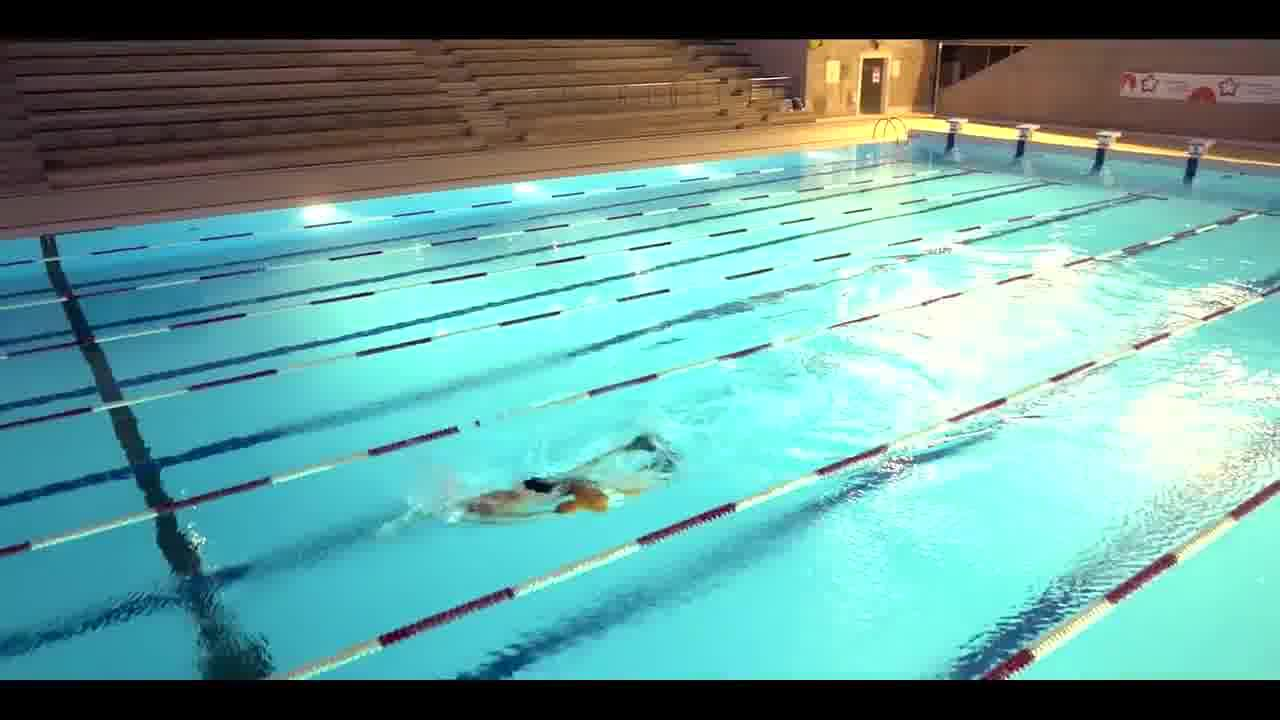human: (434, 478, 529, 537)
